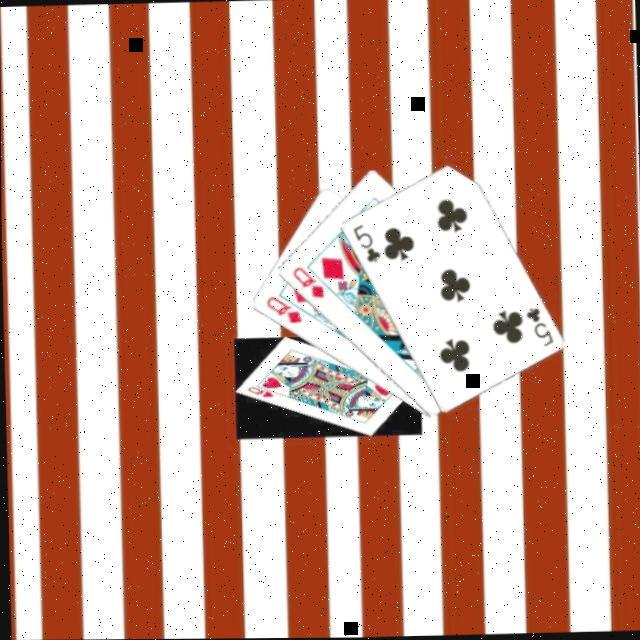5C: (349, 221, 384, 267), (522, 305, 556, 351)
QD: (288, 263, 328, 302), (262, 293, 306, 328)
